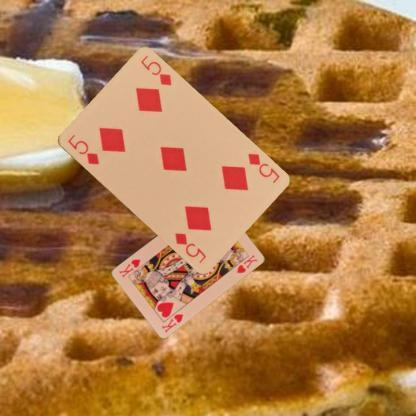5d: (245, 150, 280, 185), (65, 132, 100, 166)
Kh: (159, 311, 185, 334)
